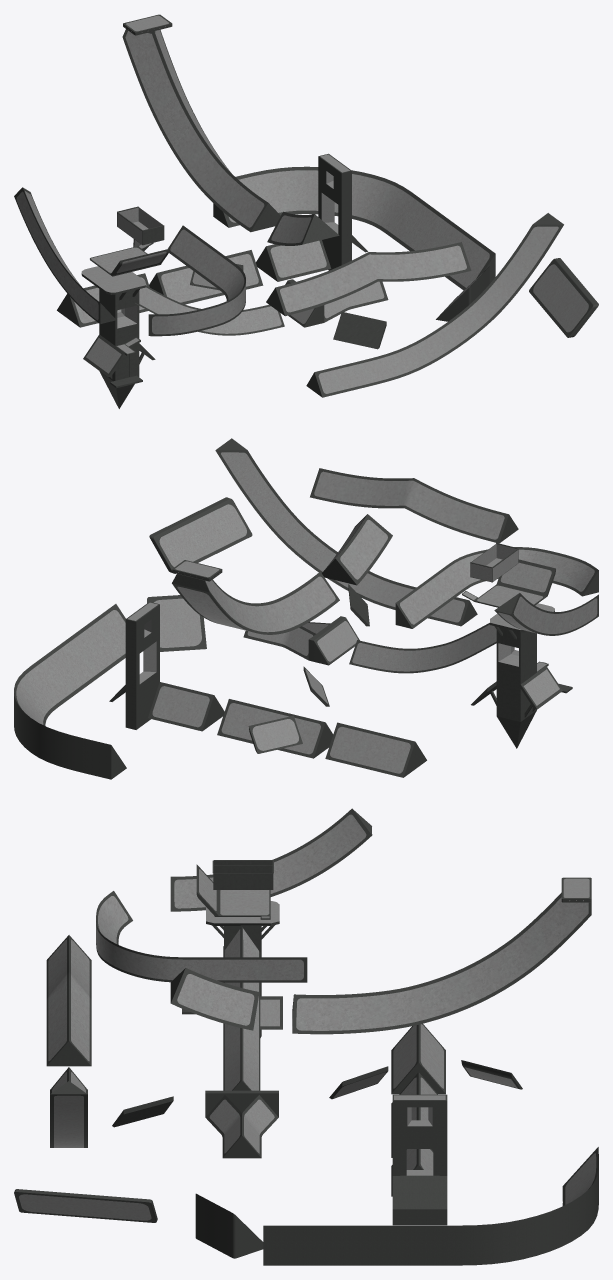
File: surf_ski.glb
The picture shows the model from 3 angles, top to bottom: view 1: azimuth 30°, elevation 25°; view 2: azimuth 150°, elevation 25°; view 3: azimuth 270°, elevation 25°; orthographic projection. The views are drawn at different scales.
Parts seen in each view (by area): view 1: surf_ski_2_infir_main; view 2: surf_ski_2_infir_main; view 3: surf_ski_2_infir_main.
Part boxes in pixels (x1=…): surf_ski_2_infir_main: x1=14, y1=14, x2=598, y2=408; surf_ski_2_infir_main: x1=14, y1=438, x2=598, y2=779; surf_ski_2_infir_main: x1=14, y1=808, x2=598, y2=1265.
Bounding box in the file's own units: 54.61 × 27.73 × 52.52.
Materials: 3 (3 with a texture image).
